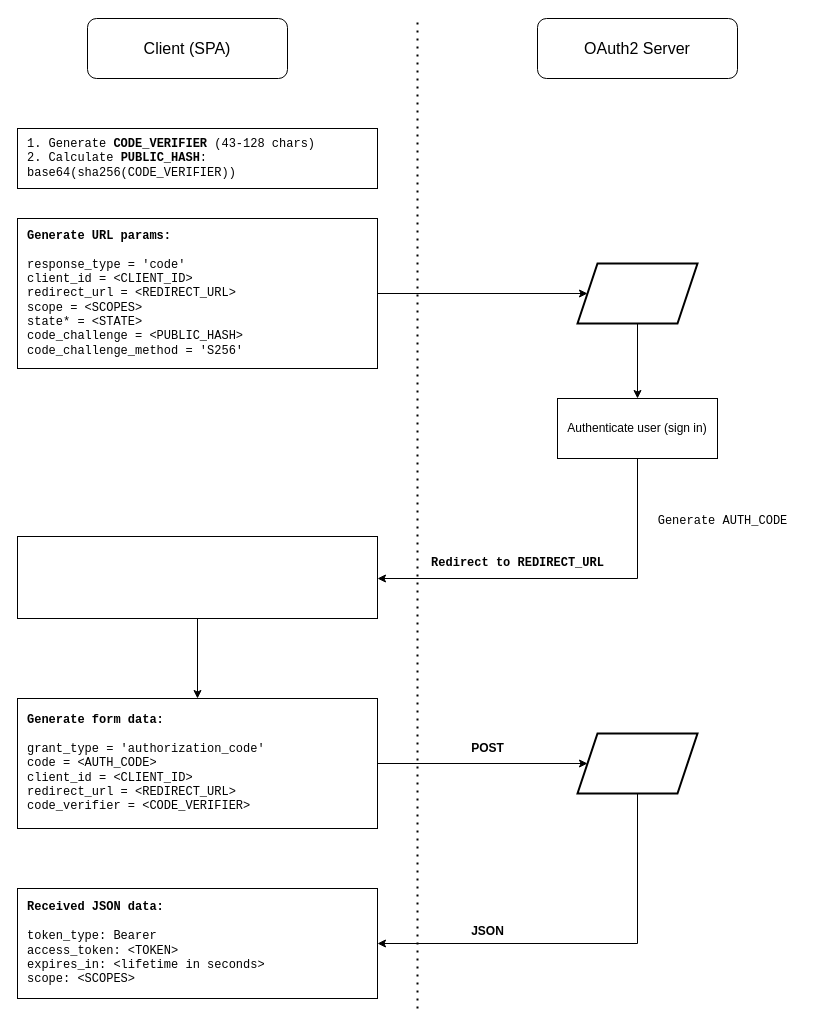
Image size: 815x1027. Some labels were removed from this diagram. The centre of each missing label's shape, as x and y in pixels:
"/authorize" belongs at point 637,293.
"/token" belongs at point 637,763.
"Received URL params: code = <AUTH_CODE> state = <STATE>" belongs at point 197,577.
